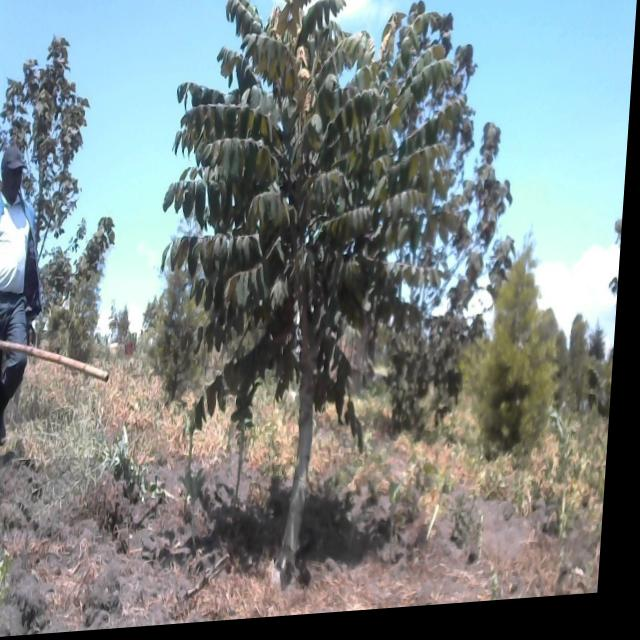Polyscias fulva: (141, 0, 527, 611)
cedrus: (476, 252, 579, 509), (160, 173, 219, 414), (590, 331, 614, 387)
other: (11, 37, 120, 221)
